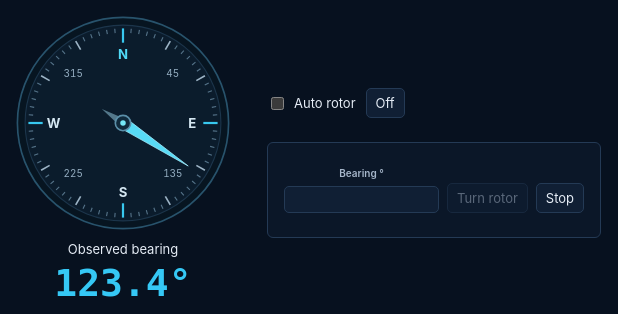
Test: reports an uncertain Stop once and does not retry it
Click the button with aria-label "Stop rotor": (560, 198) x1=536 y1=183 x2=584 y2=213
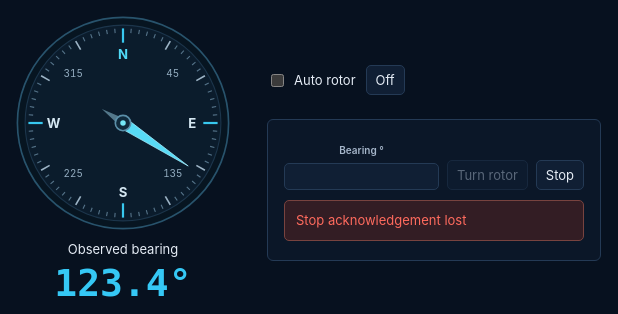
Expected: the message "Stop acknowledgement lost" is shown, x1=284 y1=200 x2=584 y2=240
